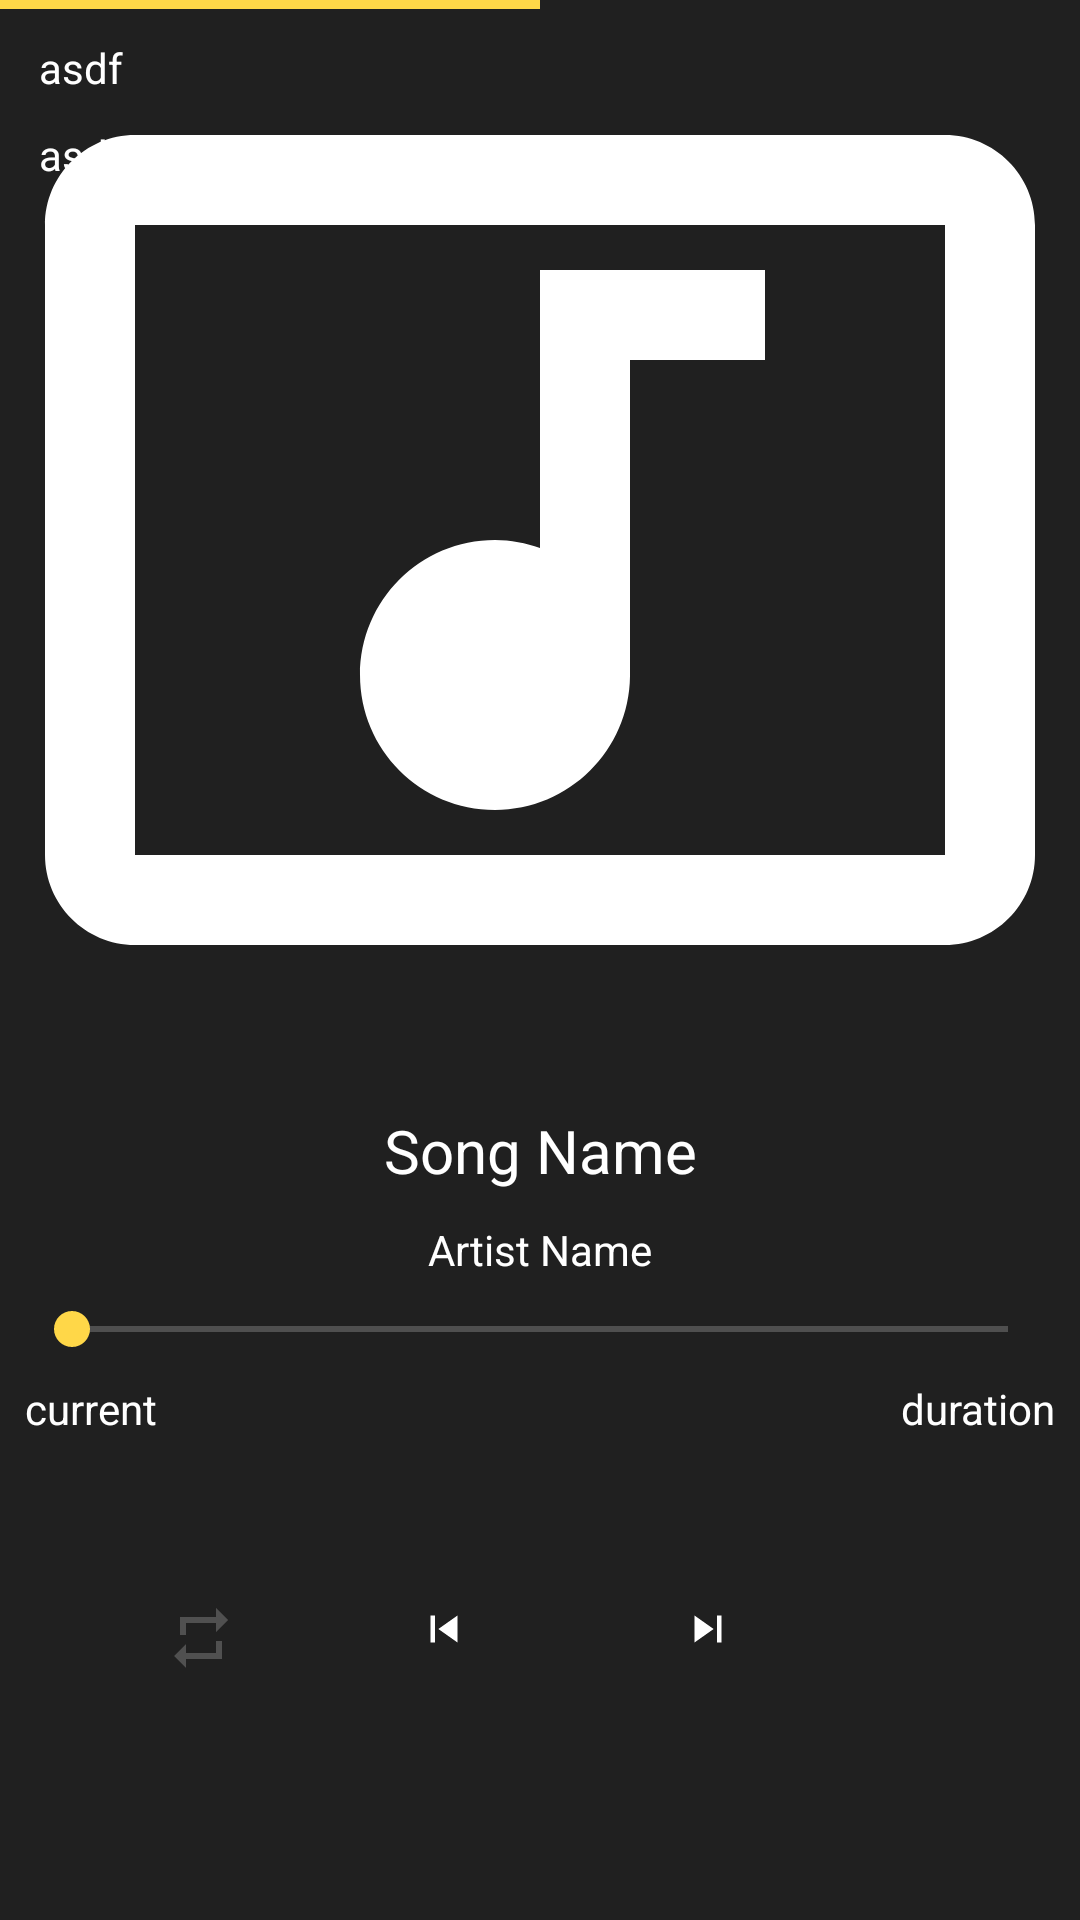

Locate icon controls on the screen. Image size 1080px x 1920px, boxes as (x1, y1, x2, y2).
player next: (694, 1615, 722, 1643)
player prev: (430, 1615, 458, 1643)
player repeat: (175, 1608, 228, 1667)
